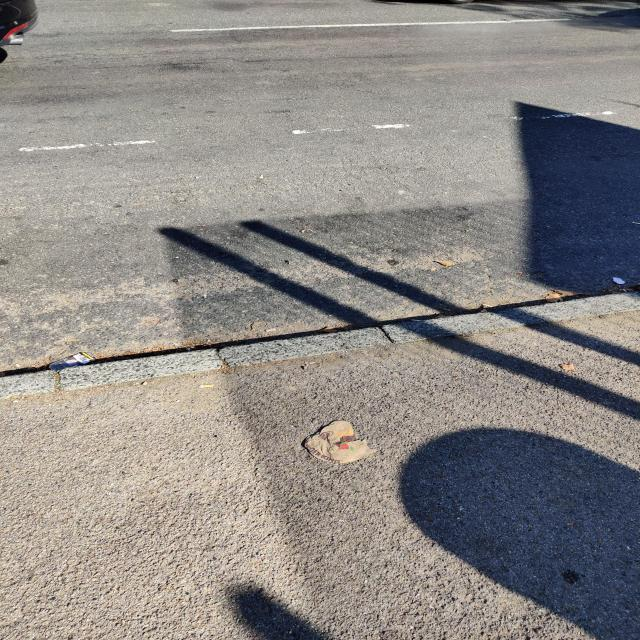litter: (304, 420, 378, 464), (48, 352, 97, 370), (200, 384, 213, 388)
